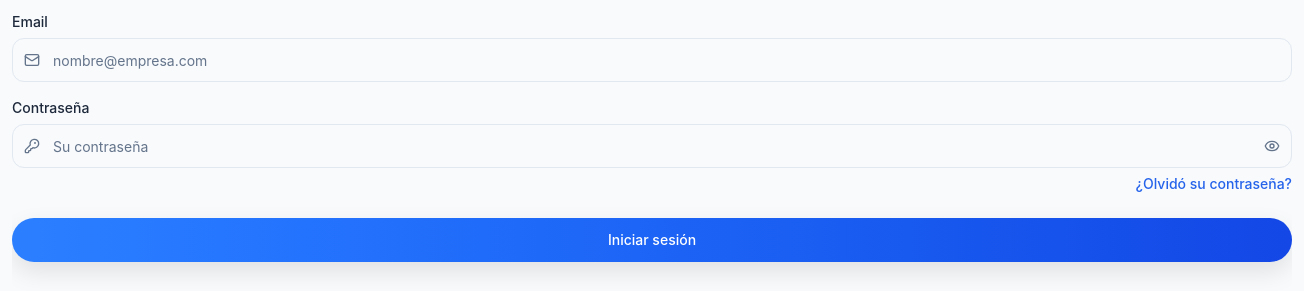
it: LoginForm › el botón del ojo alterna la clave entre oculta y visible sin perder lo tipeado
Type "secret123" into the password field labelled "Contraseña". click: (652, 146)
box: [12,124,1292,168]
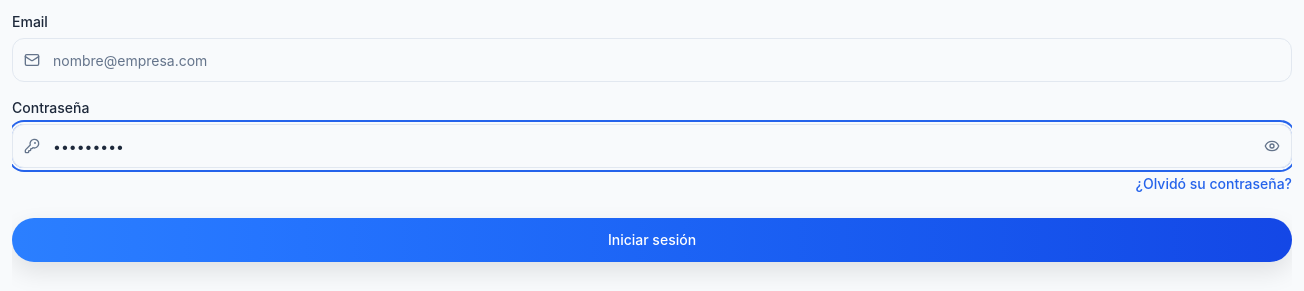
Click the button named "Mostrar la clave". click: (1272, 146)
box: [1264,138,1280,154]
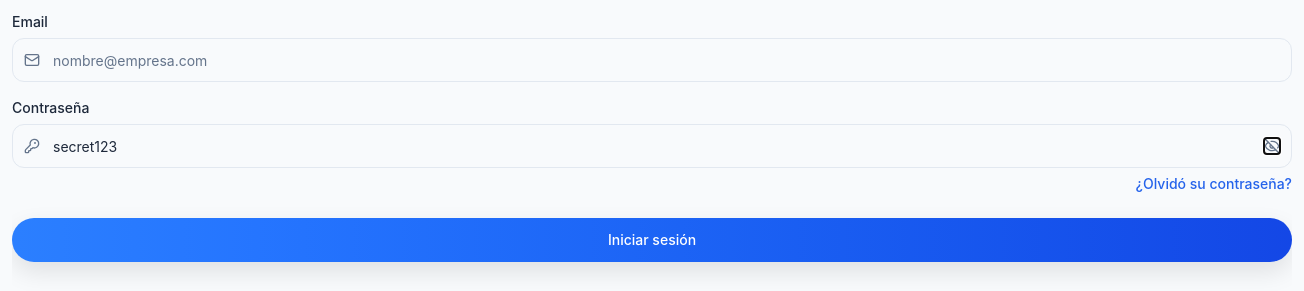
Result: the field labelled "Contraseña" shows its text at [12,124,1292,168]
Click the button named "Ocultar la clave". click: (1272, 146)
box: [1264,138,1280,154]
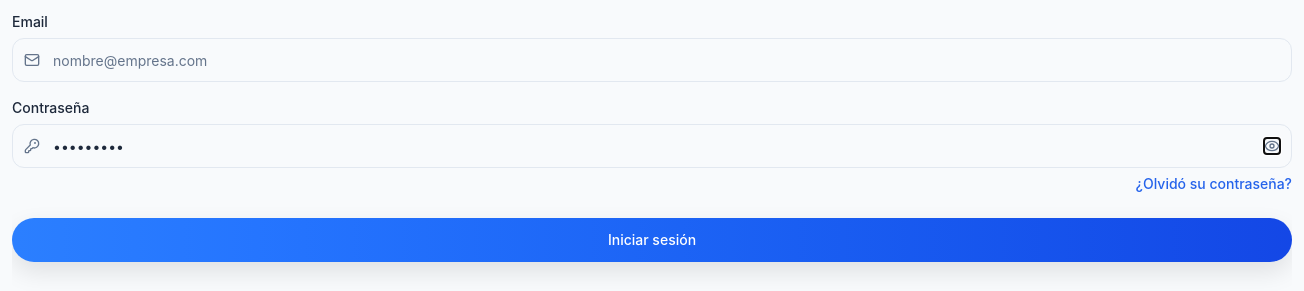
Result: the password field labelled "Contraseña" hides its text at [12,124,1292,168]
